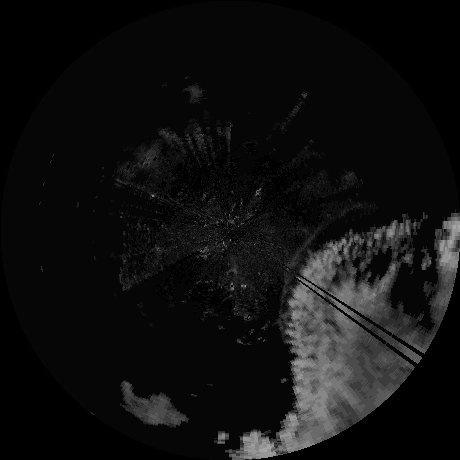frontgust: (278, 230, 311, 310)
